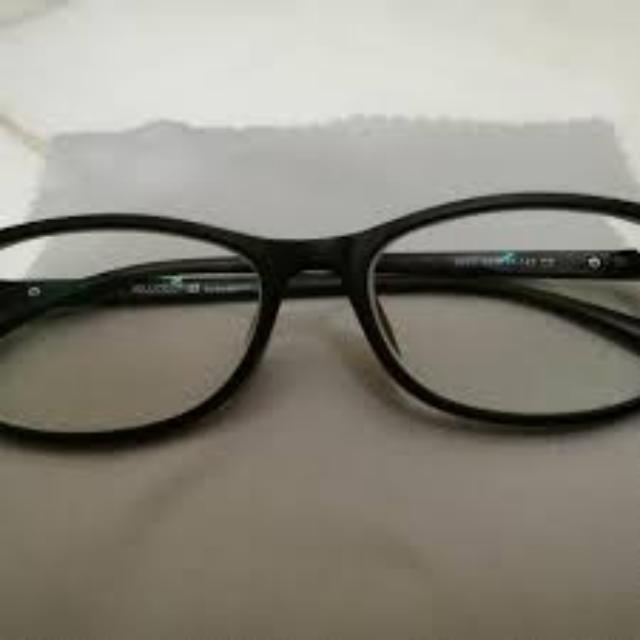glasses: (0, 191, 640, 451)
